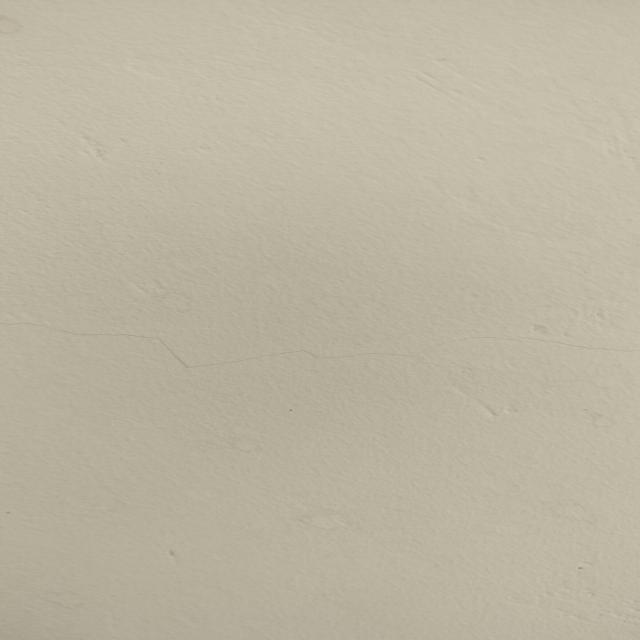Crack: (9, 316, 638, 372)
